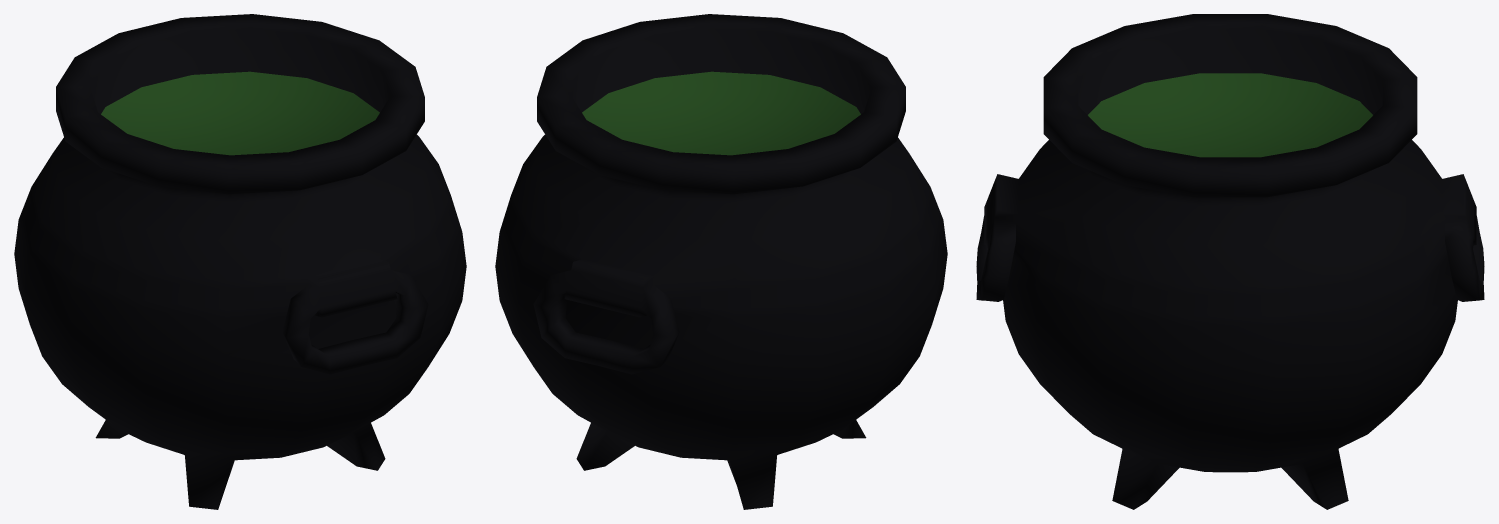
The model's file is Cauldron_Model.fbx.
3 views of the same model, side by side, from view 1: azimuth 30°, elevation 25°; view 2: azimuth 150°, elevation 25°; view 3: azimuth 270°, elevation 25° (orthographic). The views are drawn at different scales.
Parts seen in each view (by area): view 1: Cauldron; view 2: Cauldron; view 3: Cauldron.
Boxes of the visible parts, left/top/right/bottom form: Cauldron: left=14, top=14, right=466, bottom=509; Cauldron: left=495, top=14, right=947, bottom=509; Cauldron: left=976, top=14, right=1484, bottom=509.
Size of the model in its own units: 1.39 by 1.23 by 1.54.
